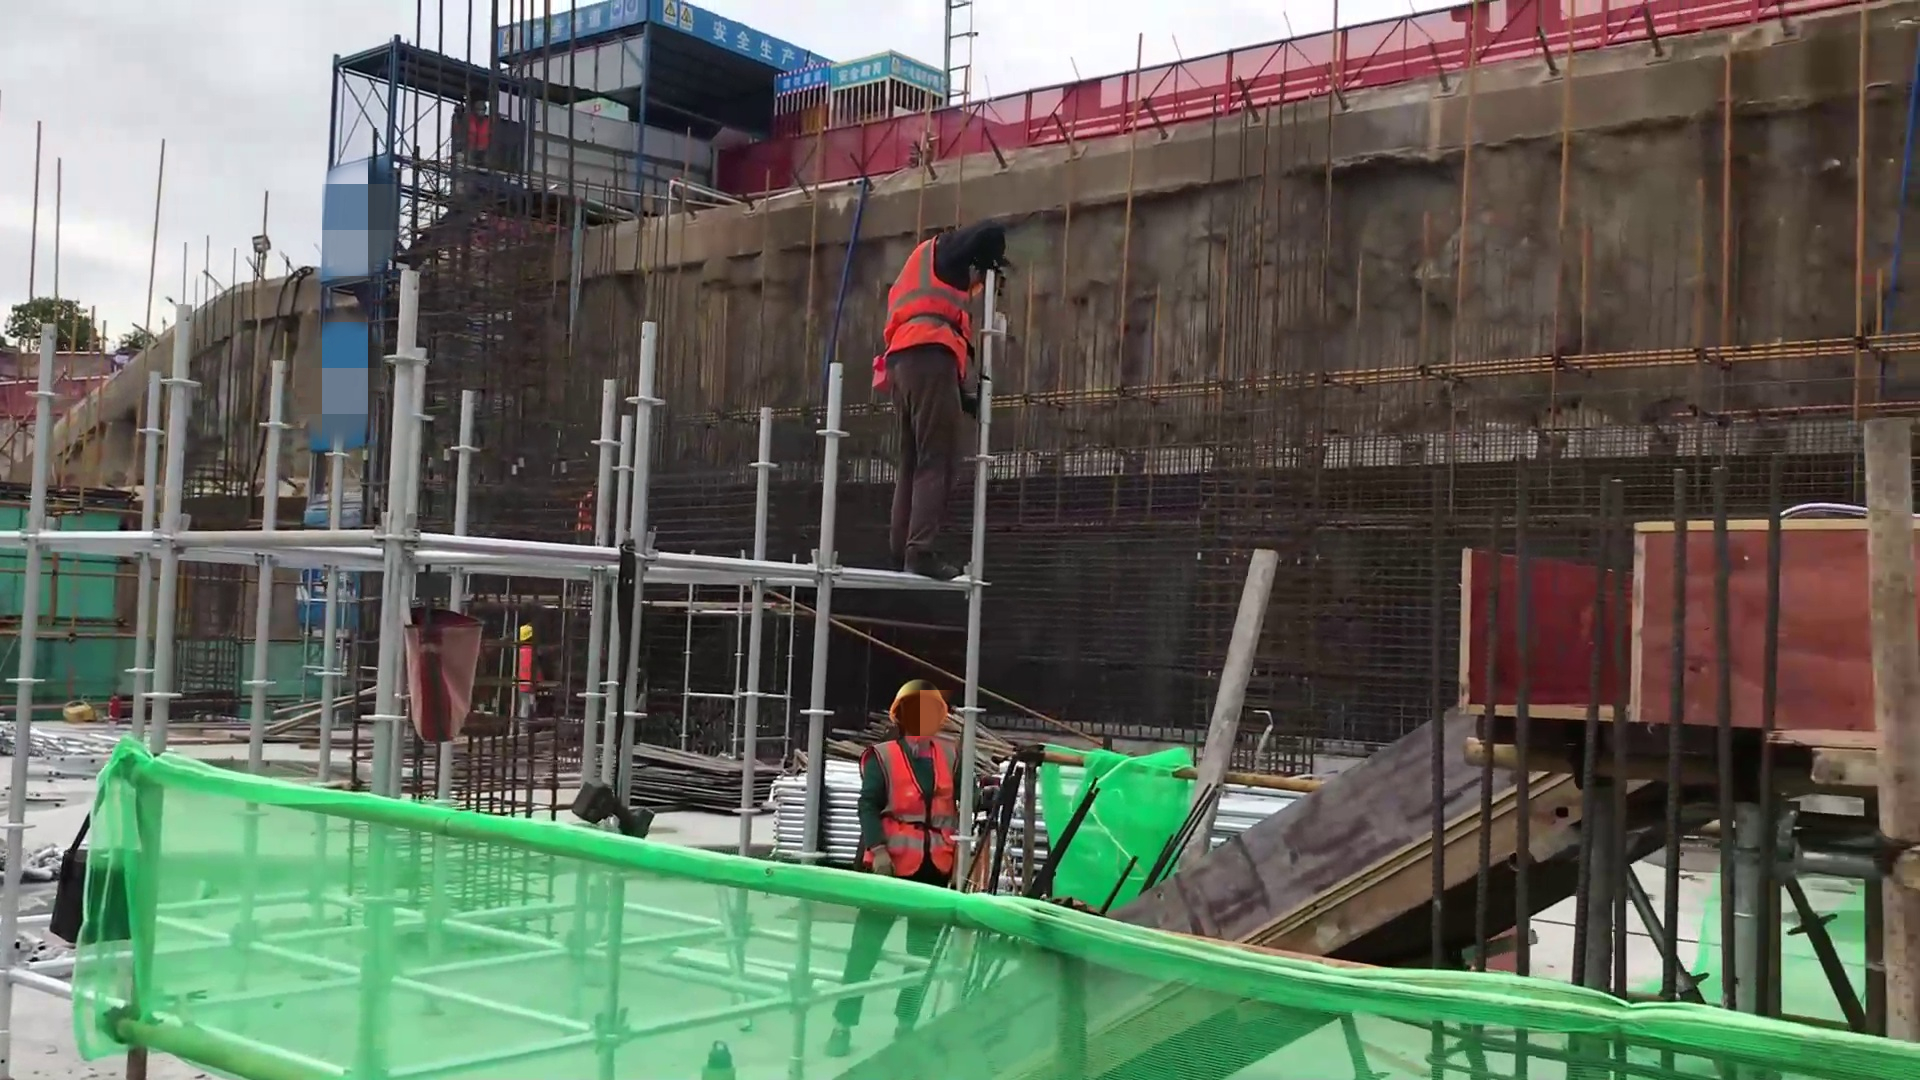board: (608, 732, 783, 811)
fence: (791, 59, 1191, 196), (1259, 1, 1689, 123)
helmet: (884, 677, 950, 734), (520, 623, 533, 644), (587, 489, 597, 504), (476, 99, 485, 113), (453, 104, 463, 115)
person: (893, 220, 1008, 566), (849, 668, 946, 1033), (504, 618, 541, 738), (471, 94, 491, 168), (578, 483, 599, 543), (447, 102, 469, 158)
slogan: (651, 4, 804, 64), (511, 6, 633, 41), (773, 64, 923, 74)
vest: (866, 740, 944, 885), (883, 243, 976, 353), (516, 646, 539, 694), (574, 495, 597, 539), (473, 113, 489, 159), (451, 113, 466, 152)
